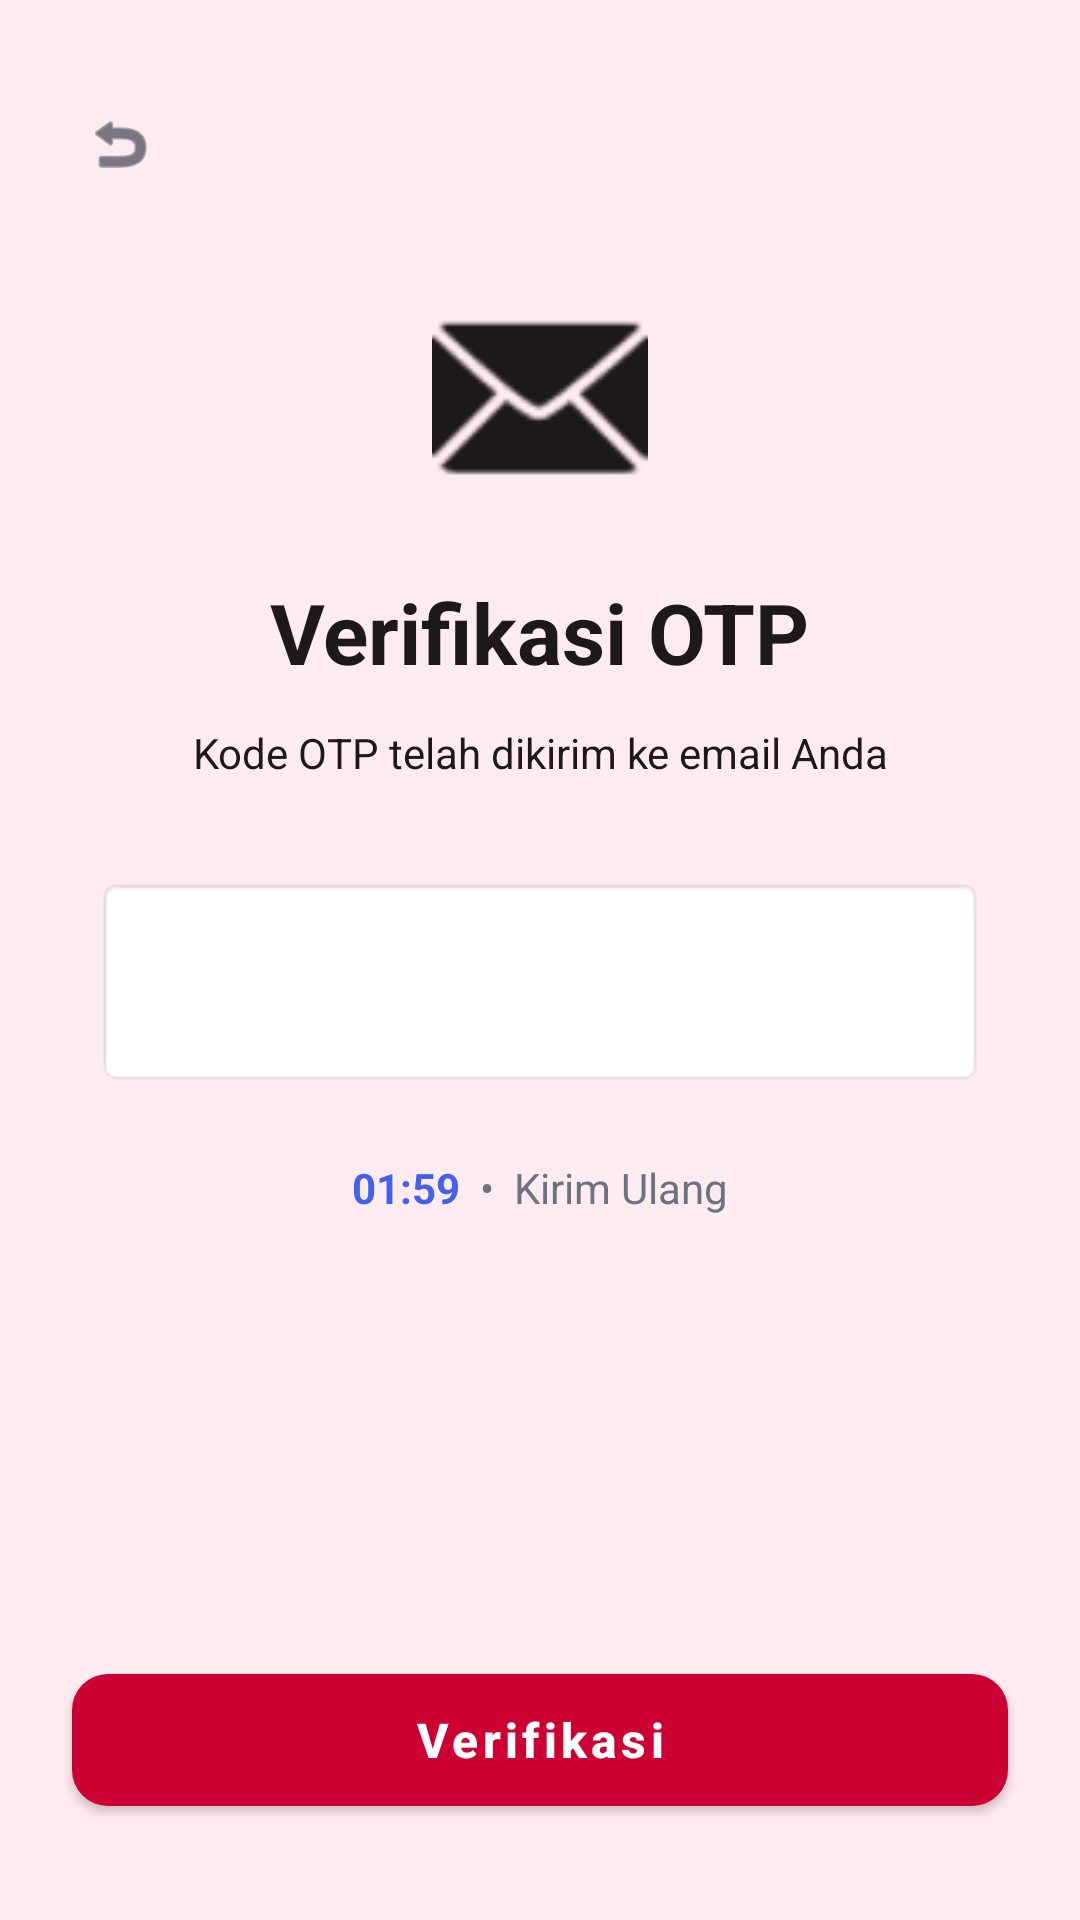

Where to tap for icons on this 1080px x 1920px app screen, as (x,y):
email: (540,398)
revert: (121,144)
